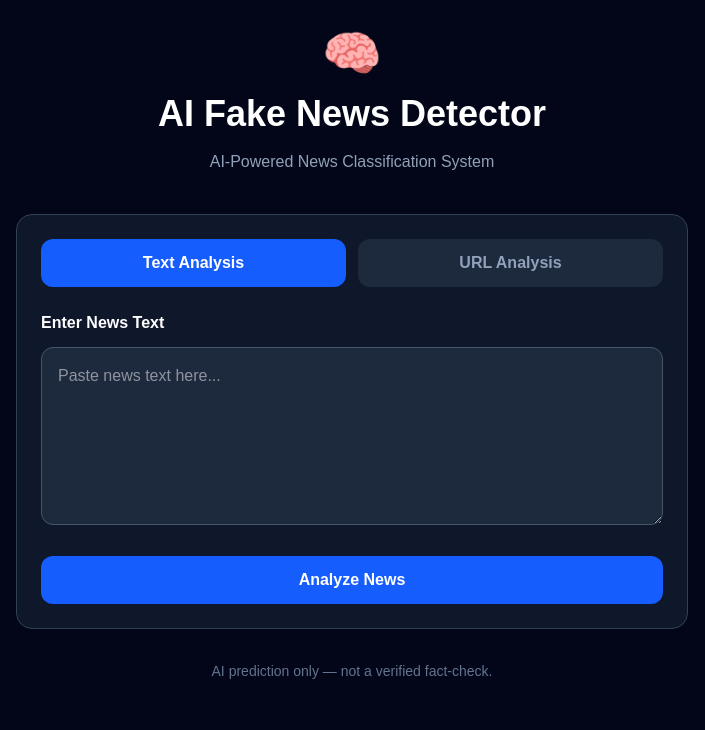
Test case: AI Fake News Detector › displays prediction result
Type "This is a sample news statement." into the text box labelled "Enter News Text" at (352, 436), box left=41, top=347, right=663, bottom=525
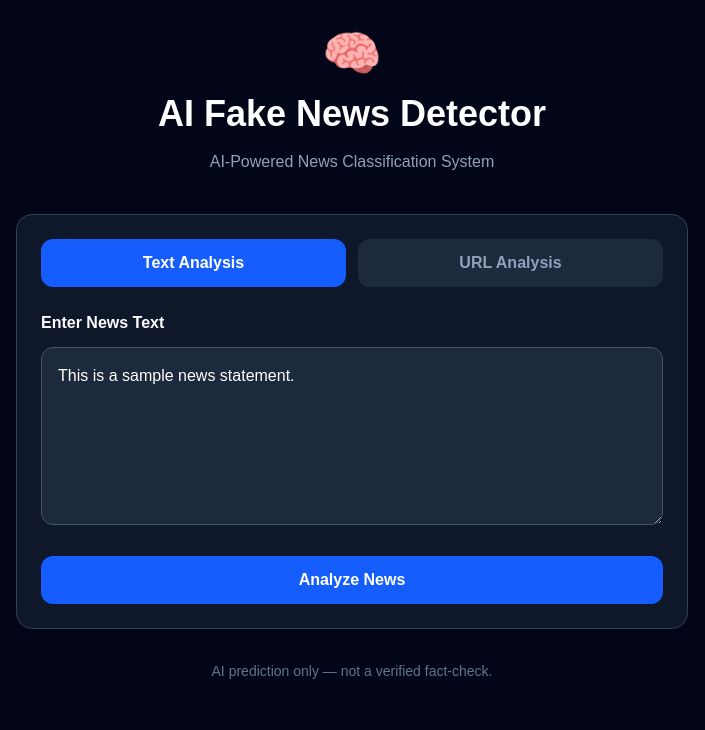
Click the button "Analyze News" at (352, 580), box left=41, top=556, right=663, bottom=604
(page scrolled)
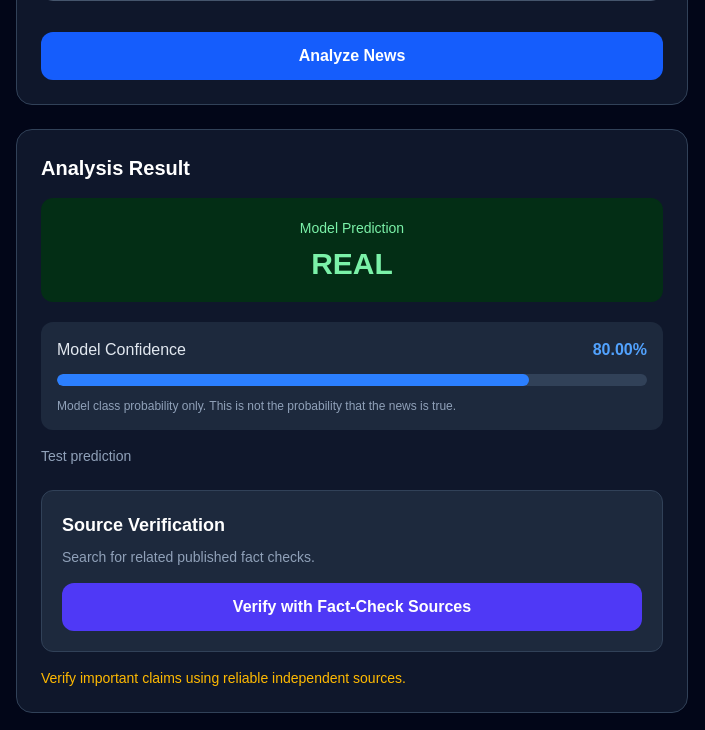
Now the text "REAL" is shown, box left=311, top=247, right=393, bottom=280
Now the text "80.00%" is shown, box left=593, top=338, right=647, bottom=362
